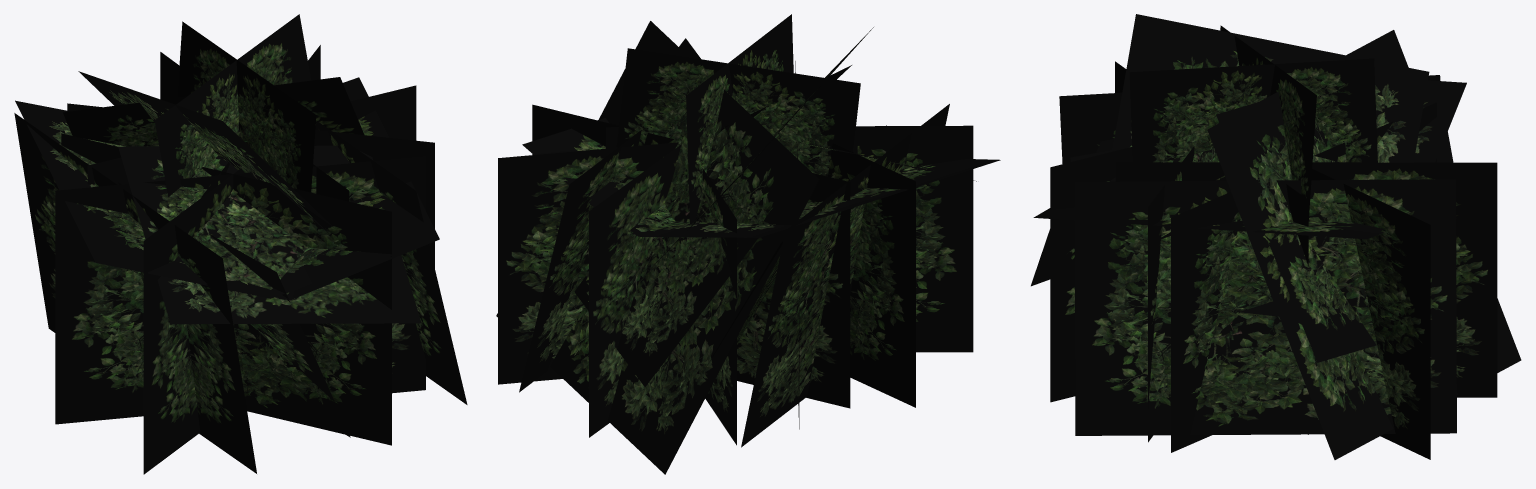
The model's file is natm_bush3.glb.
3 renders of one model, left to right at view 1: azimuth 30°, elevation 25°; view 2: azimuth 150°, elevation 25°; view 3: azimuth 270°, elevation 25°, orthographic. The views are drawn at different scales.
Visible parts, largest first — view 1: objdefault; view 2: objdefault; view 3: objdefault.
Part boxes in pixels (<box>): objdefault: <box>14,14,467,474</box>; objdefault: <box>496,14,1000,474</box>; objdefault: <box>1031,14,1521,459</box>.
Bounding box in the file's own units: 38.53 × 29.59 × 38.6.
1 material, 1 textured.
